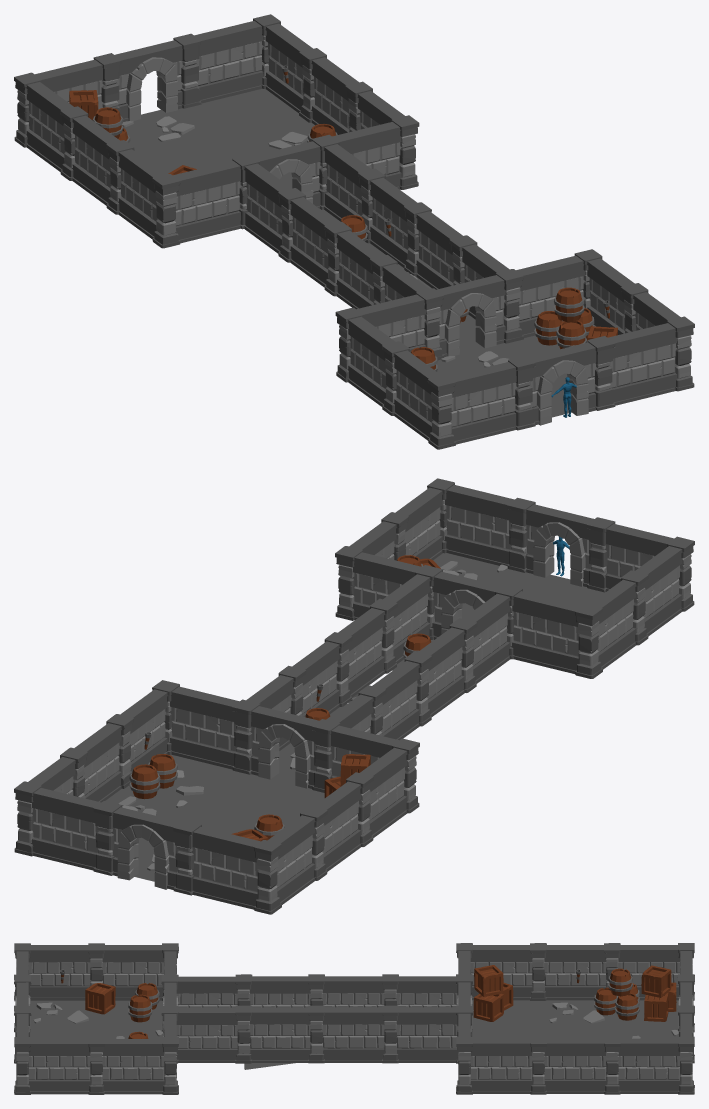
Rendered from Dungeon till VR spelet.fbx.
3 views of the same model, one above another, from view 1: azimuth 30°, elevation 25°; view 2: azimuth 150°, elevation 25°; view 3: azimuth 270°, elevation 25° (orthographic). The views are drawn at different scales.
Parts seen in each view (by area): view 1: pillar square3.003, pillar square3.010, pillar square.017, pillar square3.005, pillar square3.012, pillar square3.002, pillar square.019, pillar square.006, pillar square3.008, pillar square.005, pillar square.013, pillar square.007 (+26 smaller); view 2: pillar square.021, pillar square.009, pillar square3.003, pillar square3.004, pillar square3.012, pillar square3.002, pillar square.005, pillar square.017, pillar square3.010, pillar square.020, pillar square.008, pillar square.007 (+26 smaller); view 3: pillar square.002, pillar square.011, pillar square.003, pillar square.004, pillar square.014, pillar square.010, pillar square.015, pillar square.001, pillar square.007, pillar square.018, pillar square.019, pillar square.020 (+38 smaller).
Part boxes in pixels (x1,y1,x2,y2): pillar square3.003: (173, 20, 264, 108); pillar square3.010: (448, 355, 535, 444); pillar square.017: (608, 316, 694, 405); pillar square3.005: (173, 154, 259, 243); pillar square3.012: (528, 336, 615, 425); pillar square3.002: (93, 40, 183, 121); pillar square.019: (393, 350, 455, 449); pillar square.006: (117, 149, 180, 248); pillar square3.008: (436, 275, 506, 356); pillar square.005: (332, 115, 419, 189); pillar square.013: (289, 197, 351, 296); pillar square.007: (71, 115, 134, 214); pillar square.021: (510, 591, 602, 678); pillar square.009: (192, 826, 281, 914); pillar square3.003: (31, 788, 122, 875); pillar square3.004: (232, 699, 319, 788); pillar square3.012: (507, 497, 593, 586); pillar square3.002: (112, 807, 201, 895); pillar square.005: (152, 680, 239, 769); pillar square.017: (427, 478, 514, 565); pillar square3.010: (586, 517, 673, 592); pillar square.020: (589, 570, 648, 669); pillar square.008: (267, 806, 327, 904); pillar square.007: (314, 772, 373, 871); pillar square.002: (616, 1036, 694, 1094); pillar square.011: (308, 1005, 384, 1063); pillar square.003: (542, 1036, 620, 1094); pillar square.004: (470, 1036, 546, 1094); pillar square.014: (101, 1037, 178, 1094); pillar square.010: (382, 1005, 458, 1063); pillar square.015: (28, 1037, 104, 1094); pillar square.001: (235, 1005, 316, 1063); pillar square.007: (530, 943, 606, 1000); pillar square.018: (161, 1006, 243, 1063); pillar square.019: (14, 943, 90, 1001); pillar square.020: (88, 943, 164, 1000).
Bounding box in the file's own units: 1295 × 364 × 3684.
